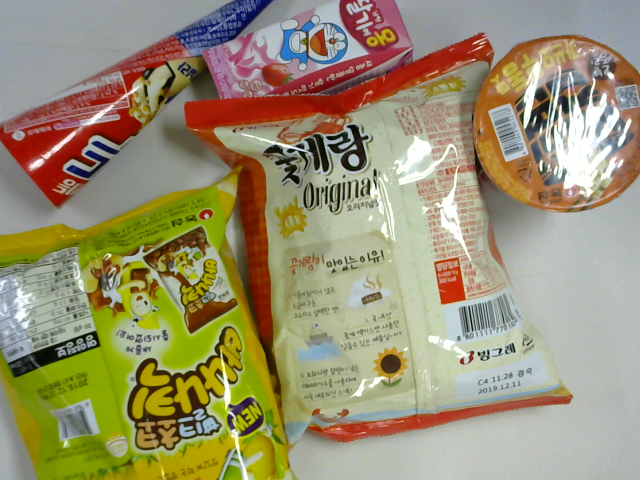Banana_Kick: (1, 166, 292, 479)
Crabrang: (184, 34, 578, 441)
Strawberry_E_Mong: (204, 1, 415, 112)
Udongmini: (473, 34, 640, 213)
World_Cone_Banila: (2, 1, 273, 210)
